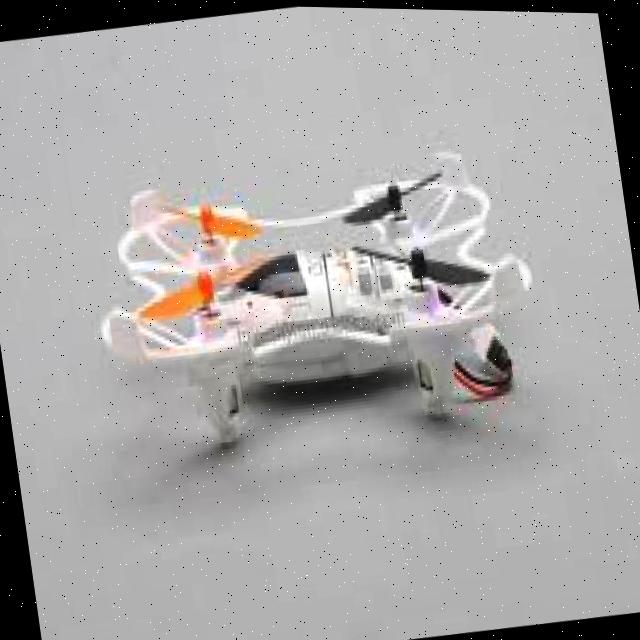drone: (68, 116, 566, 490)
